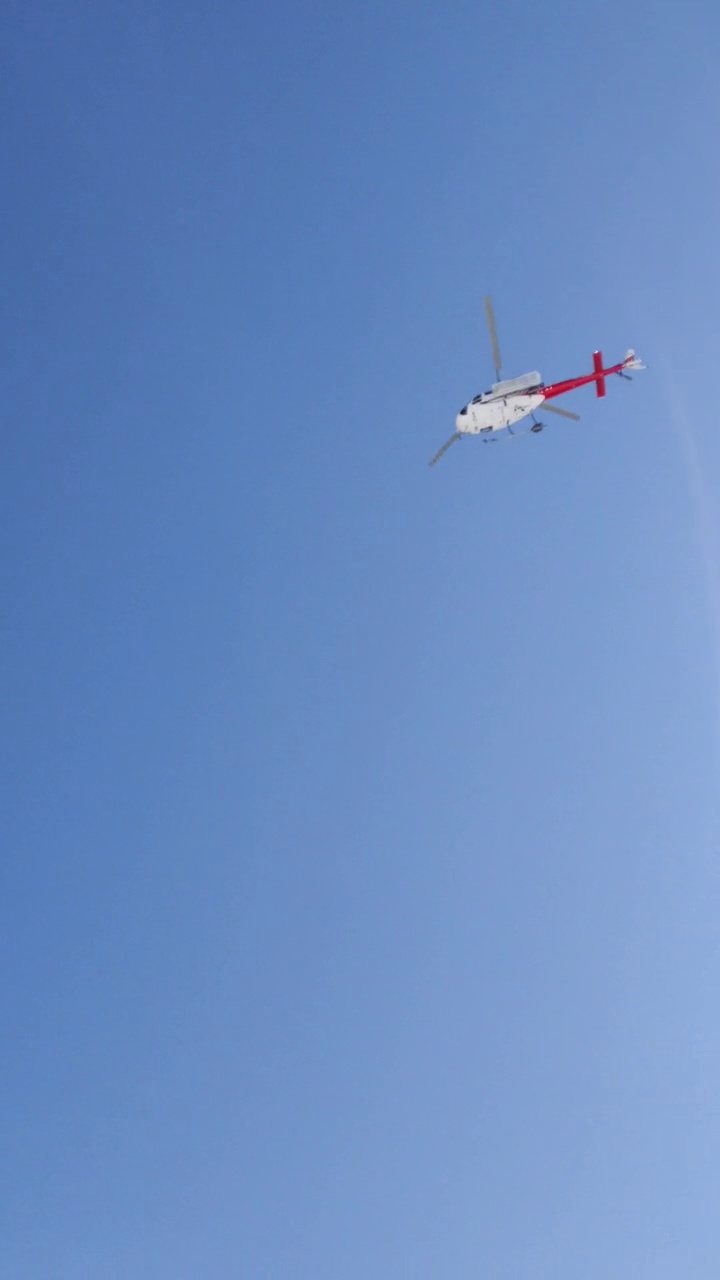heli: (424, 294, 644, 467)
